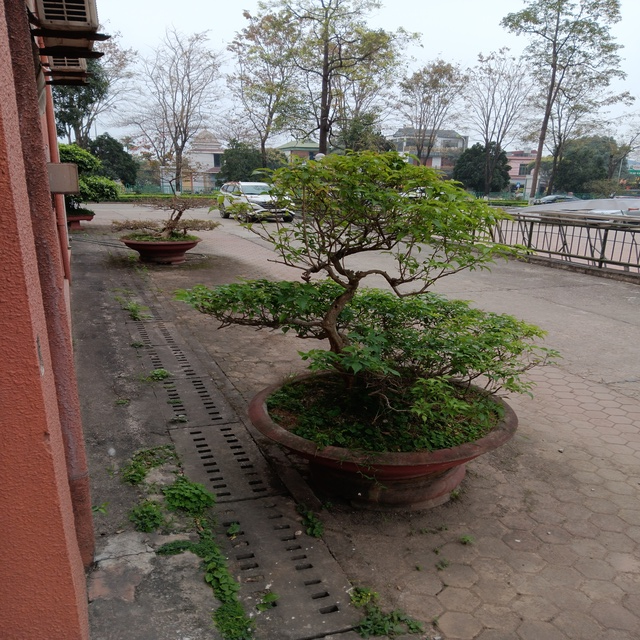caycanh: (216, 138, 533, 520), (103, 154, 209, 284), (51, 130, 115, 233)
